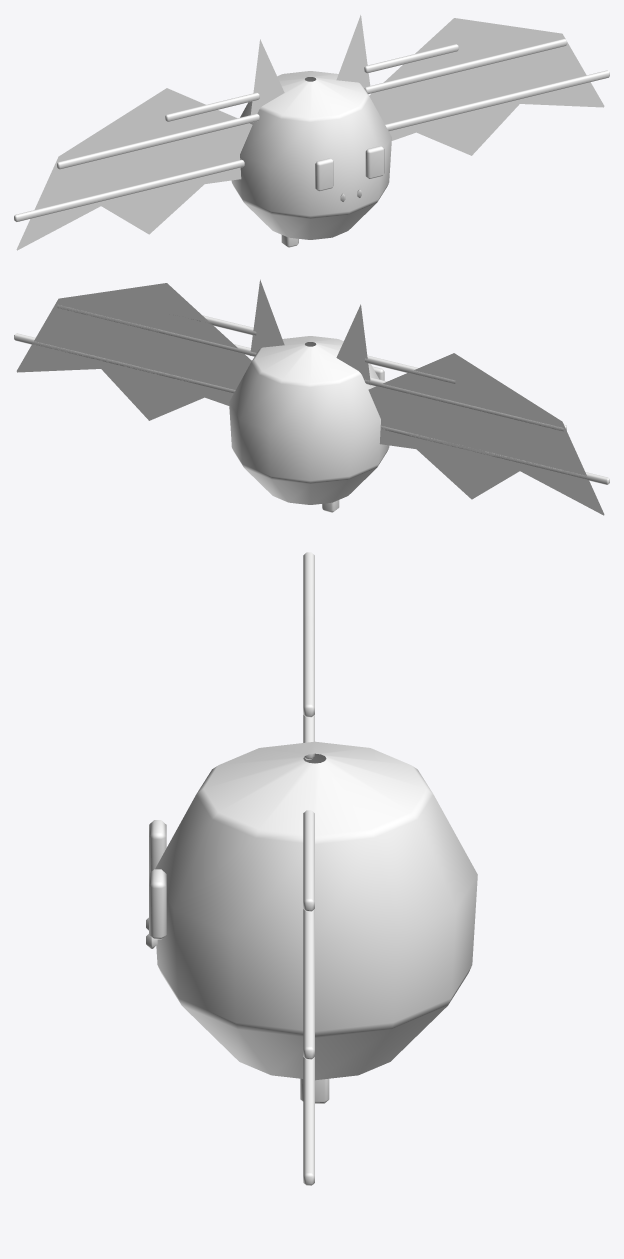
Rendered from chamgadar.glb.
3 views of the same model, one above another, from view 1: azimuth 30°, elevation 25°; view 2: azimuth 150°, elevation 25°; view 3: azimuth 270°, elevation 25° (orthographic). The views are drawn at different scales.
Visible parts, largest first — view 1: Body.001, WingL, WingR; view 2: Body.001, WingL, WingR; view 3: Body.001, WingR, WingL.
Boxes of the visible parts, x1,y1,x2,y2 form: Body.001: (231,15,391,247); WingL: (14,88,259,250); WingR: (364,18,609,155); Body.001: (229,279,389,512); WingL: (365,353,609,515); WingR: (14,283,256,420); Body.001: (146,741,477,1103); WingR: (303,810,314,1185); WingL: (303,552,314,759).
Bounding box in the file's own units: 2.36 × 0.81 × 0.57.
Materials: 1 (1 with a texture image).
